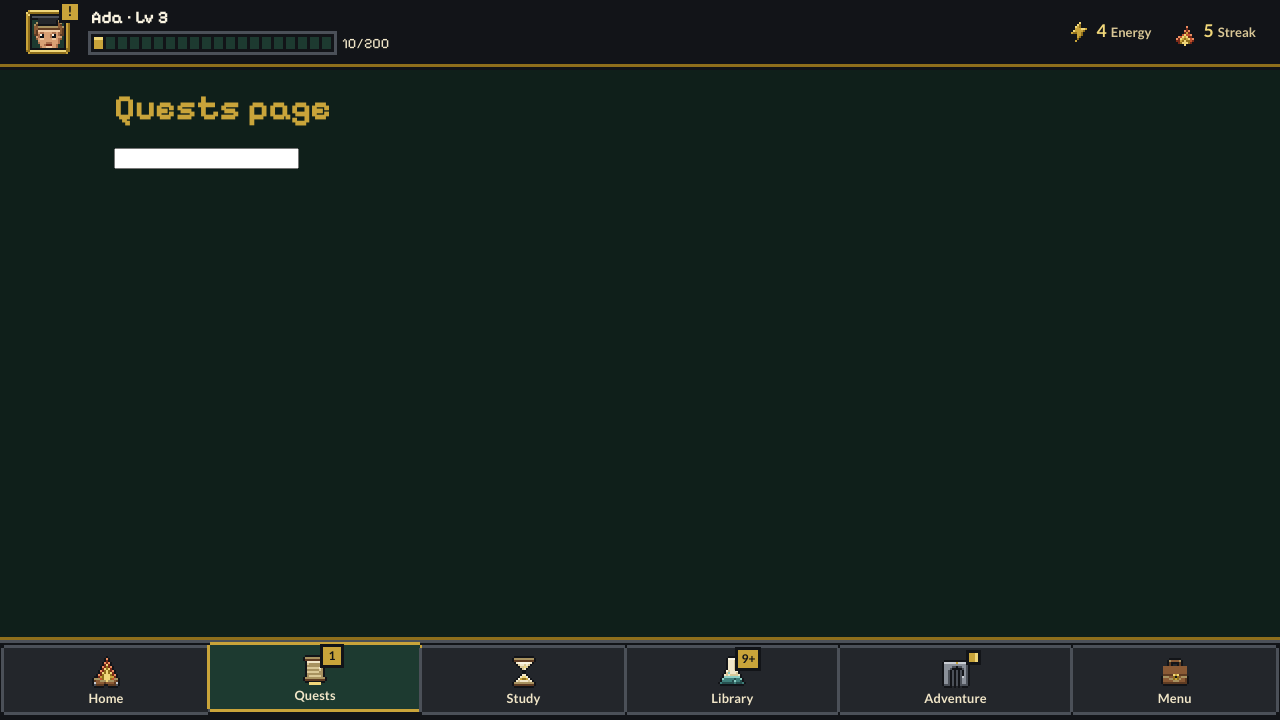
Test: Menu overlay › closes on Escape and returns focus to the Menu slot
Expected: the text "Ada · Lv 3" is shown, [91, 9, 168, 28]
Click the button "Menu": (1175, 680) [1073, 648, 1276, 712]
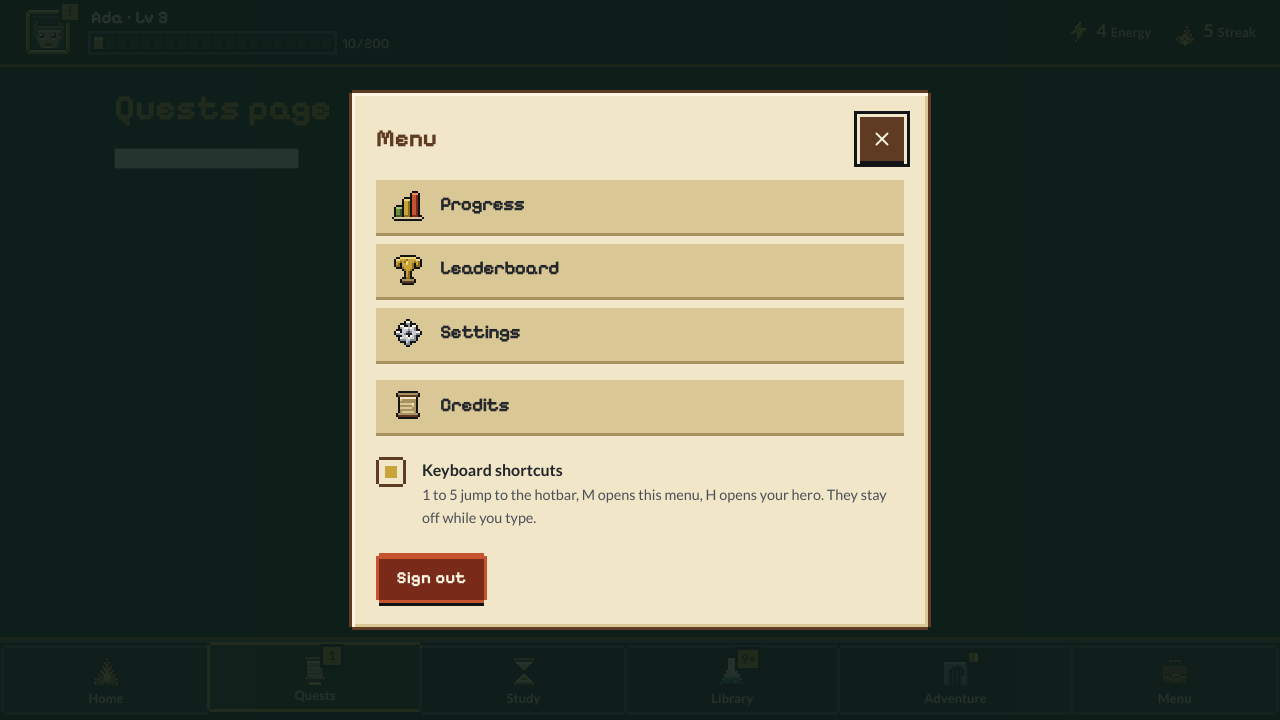
Press Escape
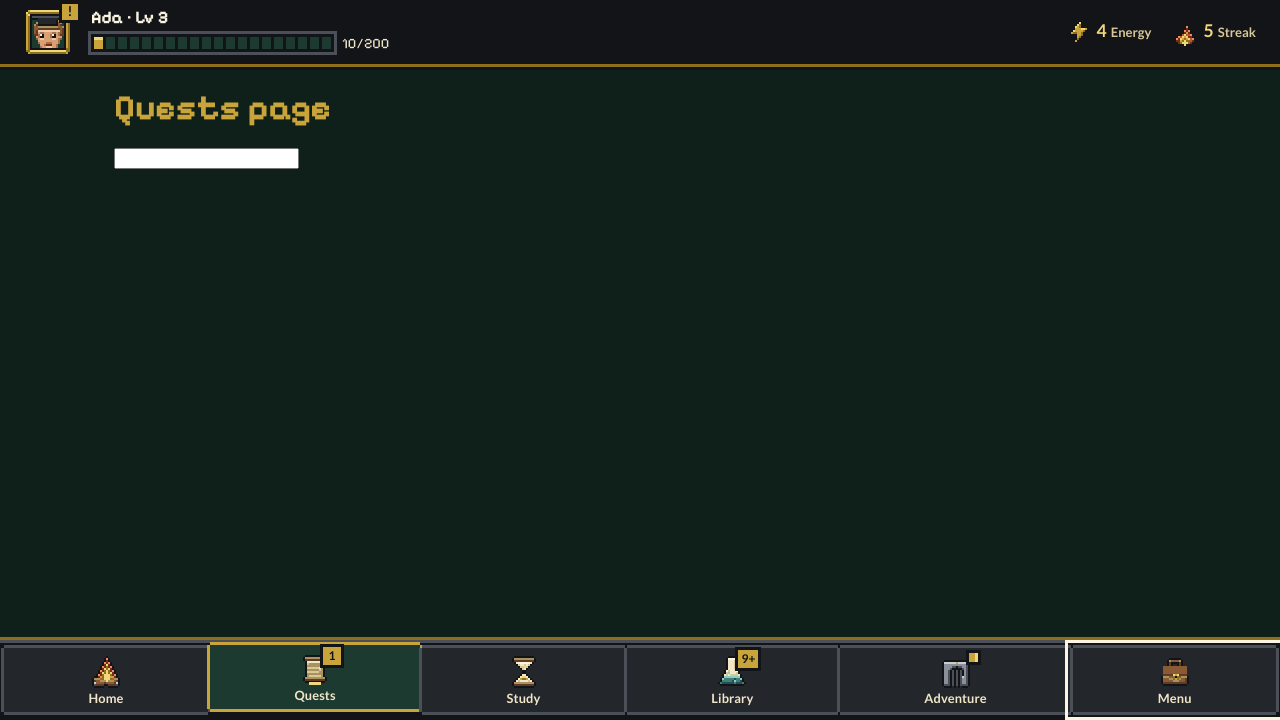
Expected: the dialog is gone
